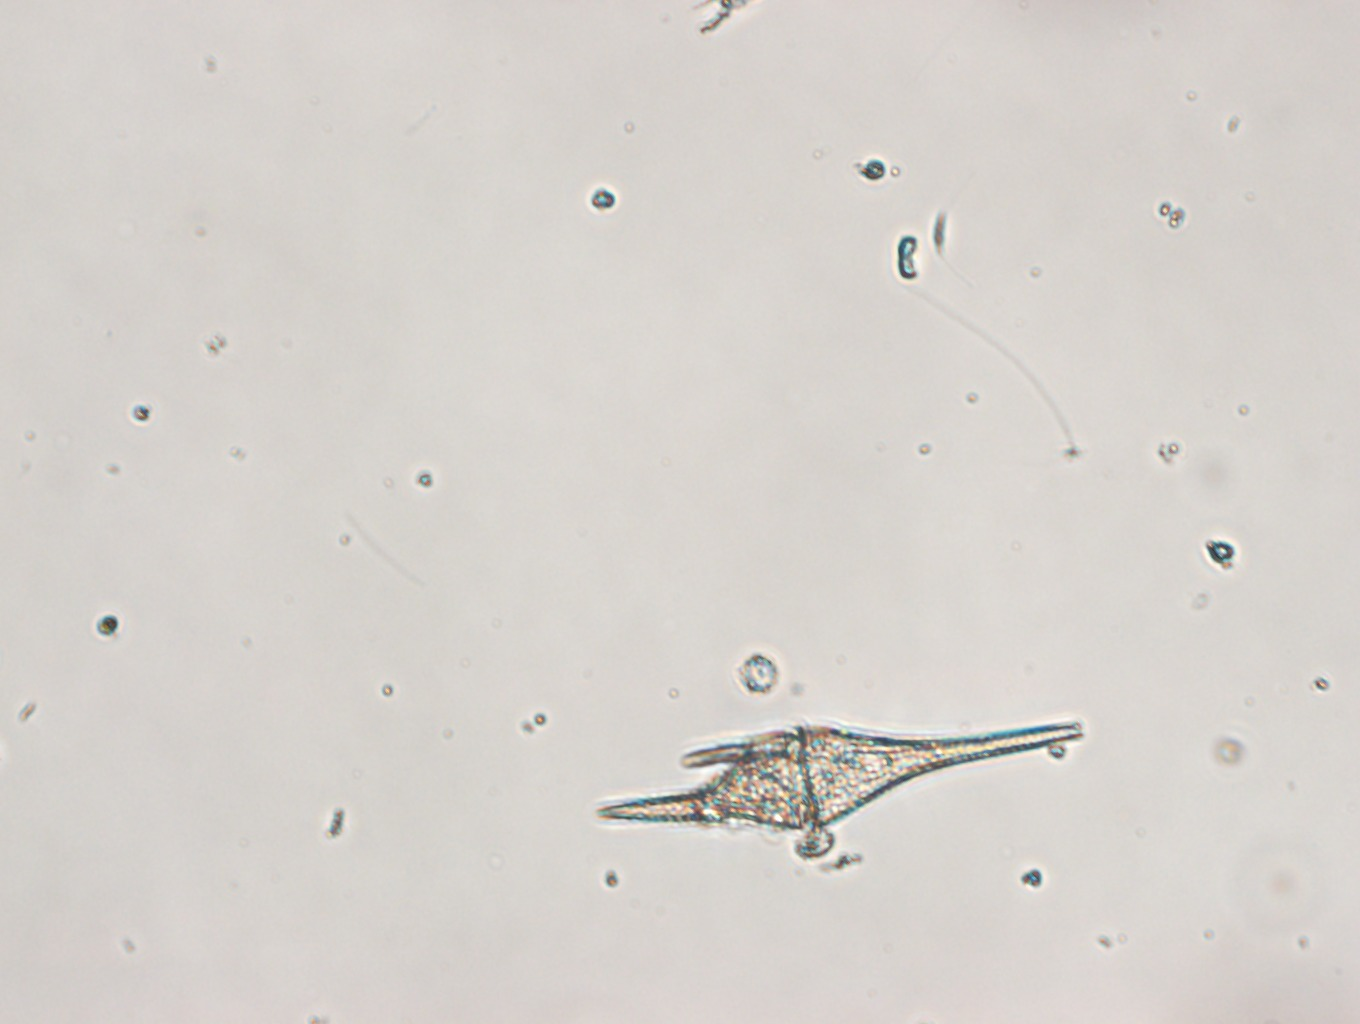ceratium furca: (593, 714, 1096, 855)
